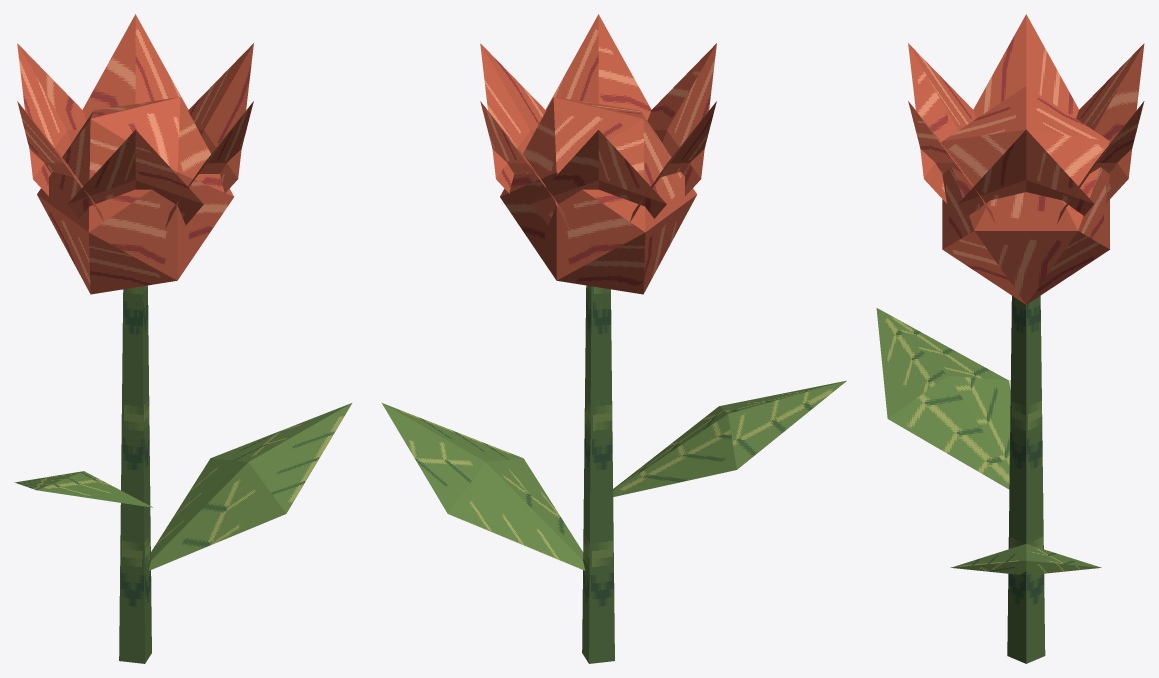
Rendered from flor-tulipa-v01.gltf.
3 renders of one model, left to right at view 1: azimuth 30°, elevation 25°; view 2: azimuth 150°, elevation 25°; view 3: azimuth 270°, elevation 25°, orthographic.
Parts seen in each view (by area): view 1: petalas, folhas, hastes; view 2: petalas, folhas, hastes; view 3: petalas, folhas, hastes.
Boxes of the visible parts, bbox=[...] form: petalas: bbox=[17, 14, 253, 294]; folhas: bbox=[14, 403, 352, 570]; hastes: bbox=[119, 285, 151, 663]; petalas: bbox=[480, 14, 716, 294]; folhas: bbox=[382, 380, 846, 570]; hastes: bbox=[582, 285, 614, 663]; petalas: bbox=[908, 14, 1144, 304]; folhas: bbox=[876, 308, 1101, 574]; hastes: bbox=[1007, 296, 1045, 663].
Size of the model in its own units: 0.5944 by 0.85 by 0.3534.
Materials: 1 (1 with a texture image).
